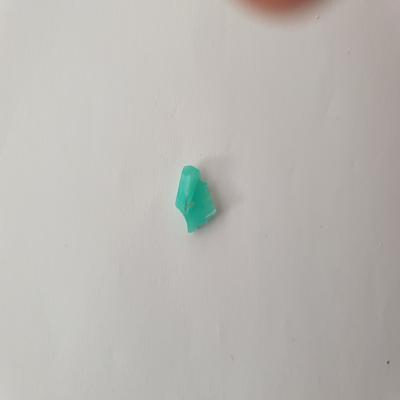plastic: (173, 162, 225, 236)
